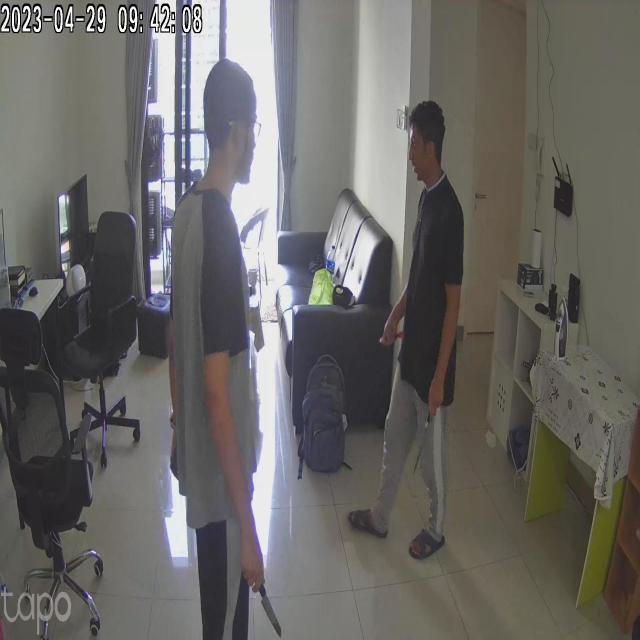Knife: (243, 568, 294, 636), (403, 412, 439, 487)
